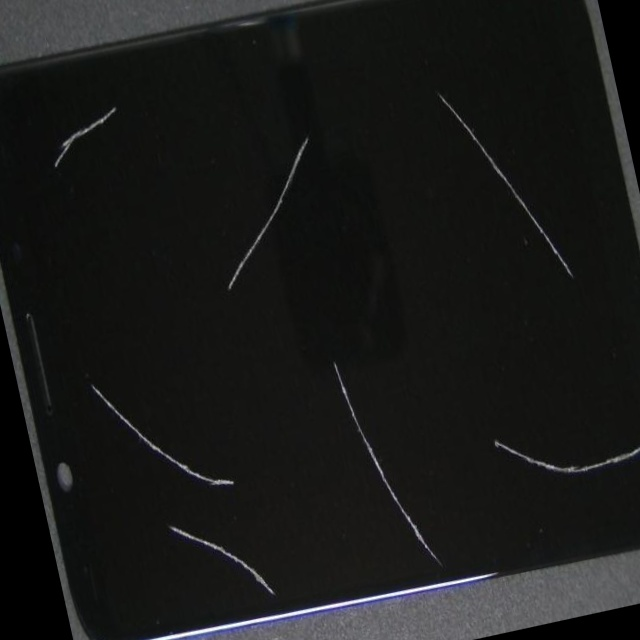scratch: (218, 241, 639, 640), (342, 133, 640, 640), (167, 0, 640, 302), (70, 215, 367, 640), (164, 0, 449, 292), (164, 287, 363, 640), (60, 11, 171, 176)
